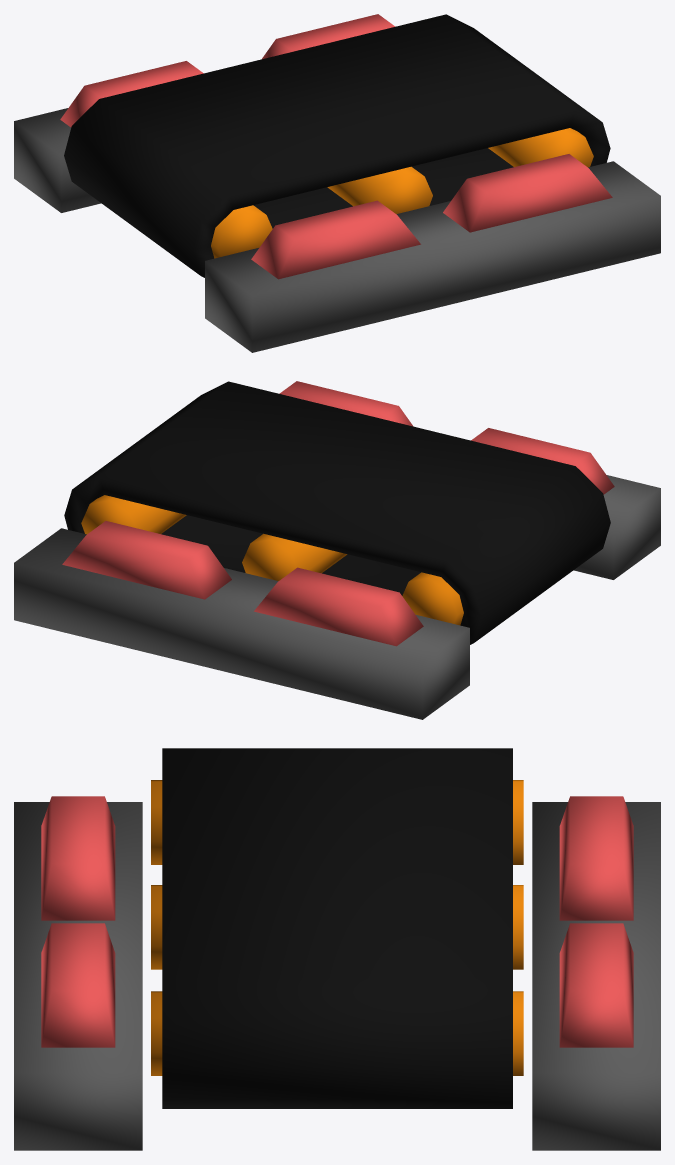
File: Conveyor_Mid.fbx
3 renders of one model, top to bottom at view 1: azimuth 30°, elevation 25°; view 2: azimuth 150°, elevation 25°; view 3: azimuth 270°, elevation 25°, orthographic. The views are drawn at different scales.
Parts seen in each view (by area): view 1: Plane.005, Conveyor_Side.001; view 2: Plane.005, Conveyor_Side.001; view 3: Plane.005, Conveyor_Side.001.
Boxes of the visible parts, x1=… form: Plane.005: x1=64, y1=14, x2=610, y2=277; Conveyor_Side.001: x1=14, y1=14, x2=660, y2=352; Plane.005: x1=64, y1=381, x2=610, y2=644; Conveyor_Side.001: x1=14, y1=381, x2=660, y2=719; Plane.005: x1=151, y1=748, x2=523, y2=1108; Conveyor_Side.001: x1=14, y1=796, x2=660, y2=1150.
Size of the model in its own units: 374 by 95.85 by 370.
